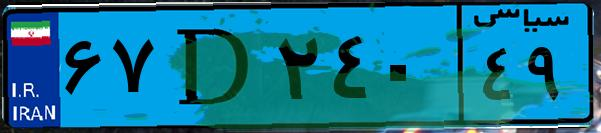0: (385, 28, 445, 110)
2: (270, 28, 330, 110)
4: (330, 28, 385, 110), (475, 38, 525, 113)
6: (57, 26, 110, 100)
7: (110, 28, 158, 98)
9: (525, 38, 570, 115)
D: (158, 12, 270, 120)
